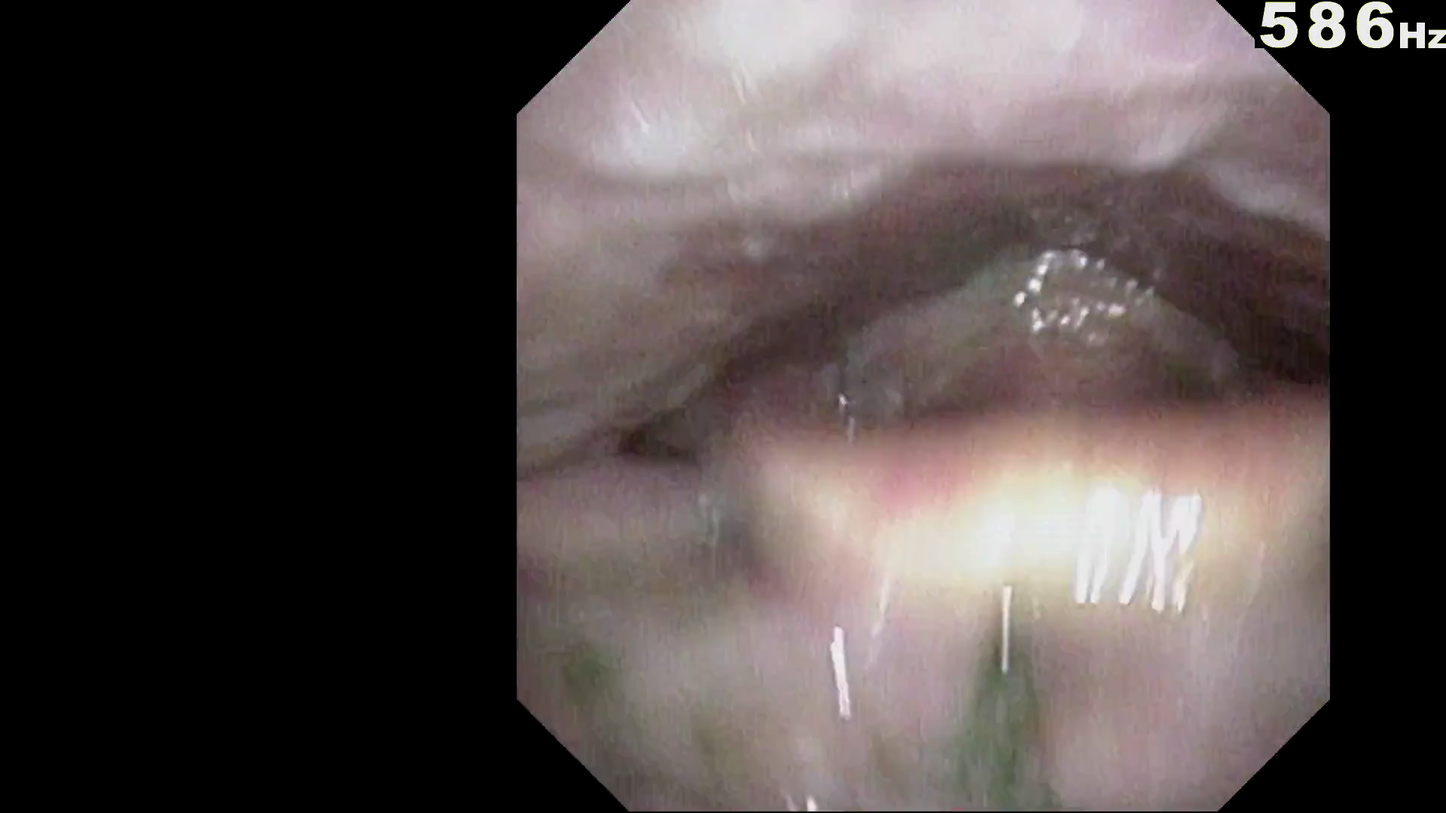epiglottis: (692, 427, 1300, 634)
trachea: (994, 513, 1115, 633)
